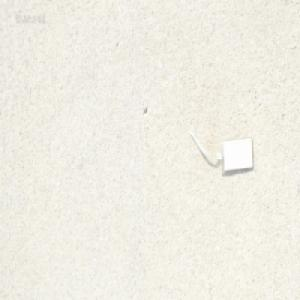LuggageTag: (183, 129, 253, 175)
